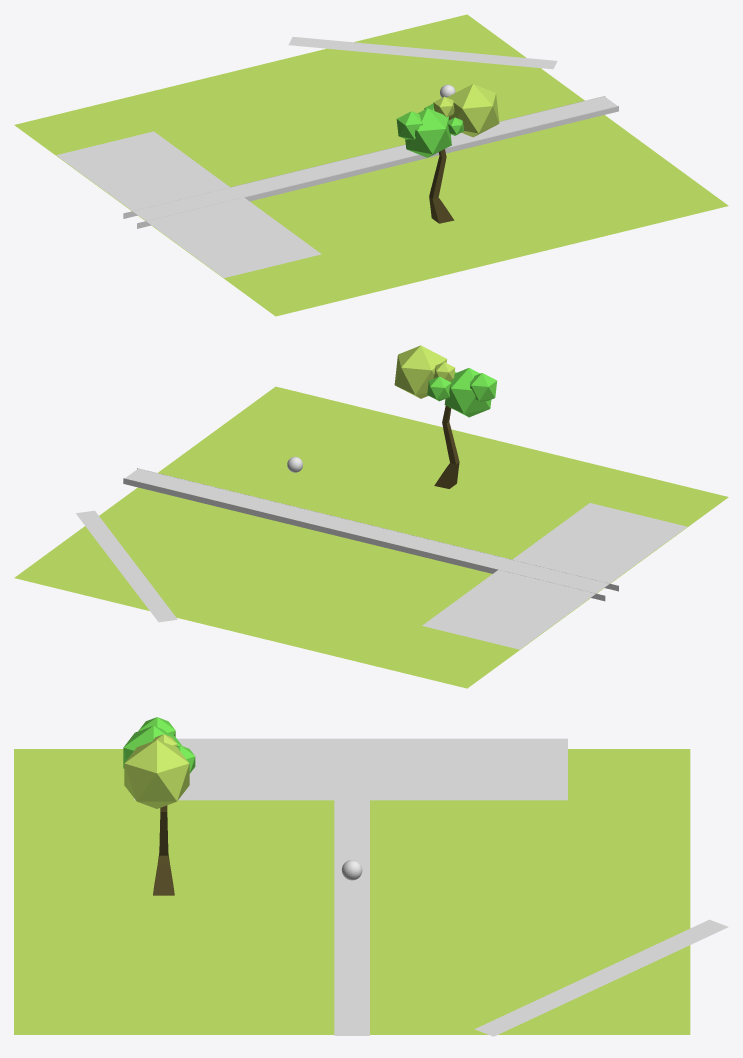
The model's file is ComTest.fbx.
3 views of the same model, one above another, from view 1: azimuth 30°, elevation 25°; view 2: azimuth 150°, elevation 25°; view 3: azimuth 270°, elevation 25° (orthographic). The views are drawn at different scales.
Parts seen in each view (by area): view 1: Plane, Plane.004, Plane.001, Plane.005, Plane.003, Icosphere.001, Icosphere.003, Cube, Icosphere.002; view 2: Plane, Plane.004, Plane.001, Plane.002, Plane.005, Icosphere.001, Icosphere.003, Cube, Icosphere.002; view 3: Plane, Plane.004, Plane.001, Plane.005, Icosphere.001, Cube, Icosphere.003.
Part boxes in pixels (<box>): Plane: <box>14,14,728,316</box>; Plane.004: <box>56,131,321,277</box>; Plane.001: <box>212,96,617,204</box>; Plane.005: <box>288,37,557,69</box>; Plane.003: <box>137,106,618,228</box>; Icosphere.001: <box>447,84,499,137</box>; Icosphere.003: <box>405,108,451,157</box>; Cube: <box>429,117,454,223</box>; Icosphere.002: <box>396,111,422,139</box>; Plane: <box>14,386,728,688</box>; Plane.004: <box>422,503,687,649</box>; Plane.001: <box>125,468,542,574</box>; Plane.002: <box>123,478,605,601</box>; Plane.005: <box>76,510,177,622</box>; Icosphere.001: <box>394,345,446,398</box>; Icosphere.003: <box>444,368,491,417</box>; Cube: <box>434,405,459,488</box>; Icosphere.002: <box>470,373,496,401</box>; Plane: <box>14,749,690,1034</box>; Plane.004: <box>134,738,567,800</box>; Plane.001: <box>334,780,369,1035</box>; Plane.005: <box>474,919,728,1036</box>; Icosphere.001: <box>124,740,189,808</box>; Cube: <box>153,805,174,895</box>; Icosphere.003: <box>123,725,181,768</box>.
Size of the model in its own units: 6961 by 1915 by 6920.
